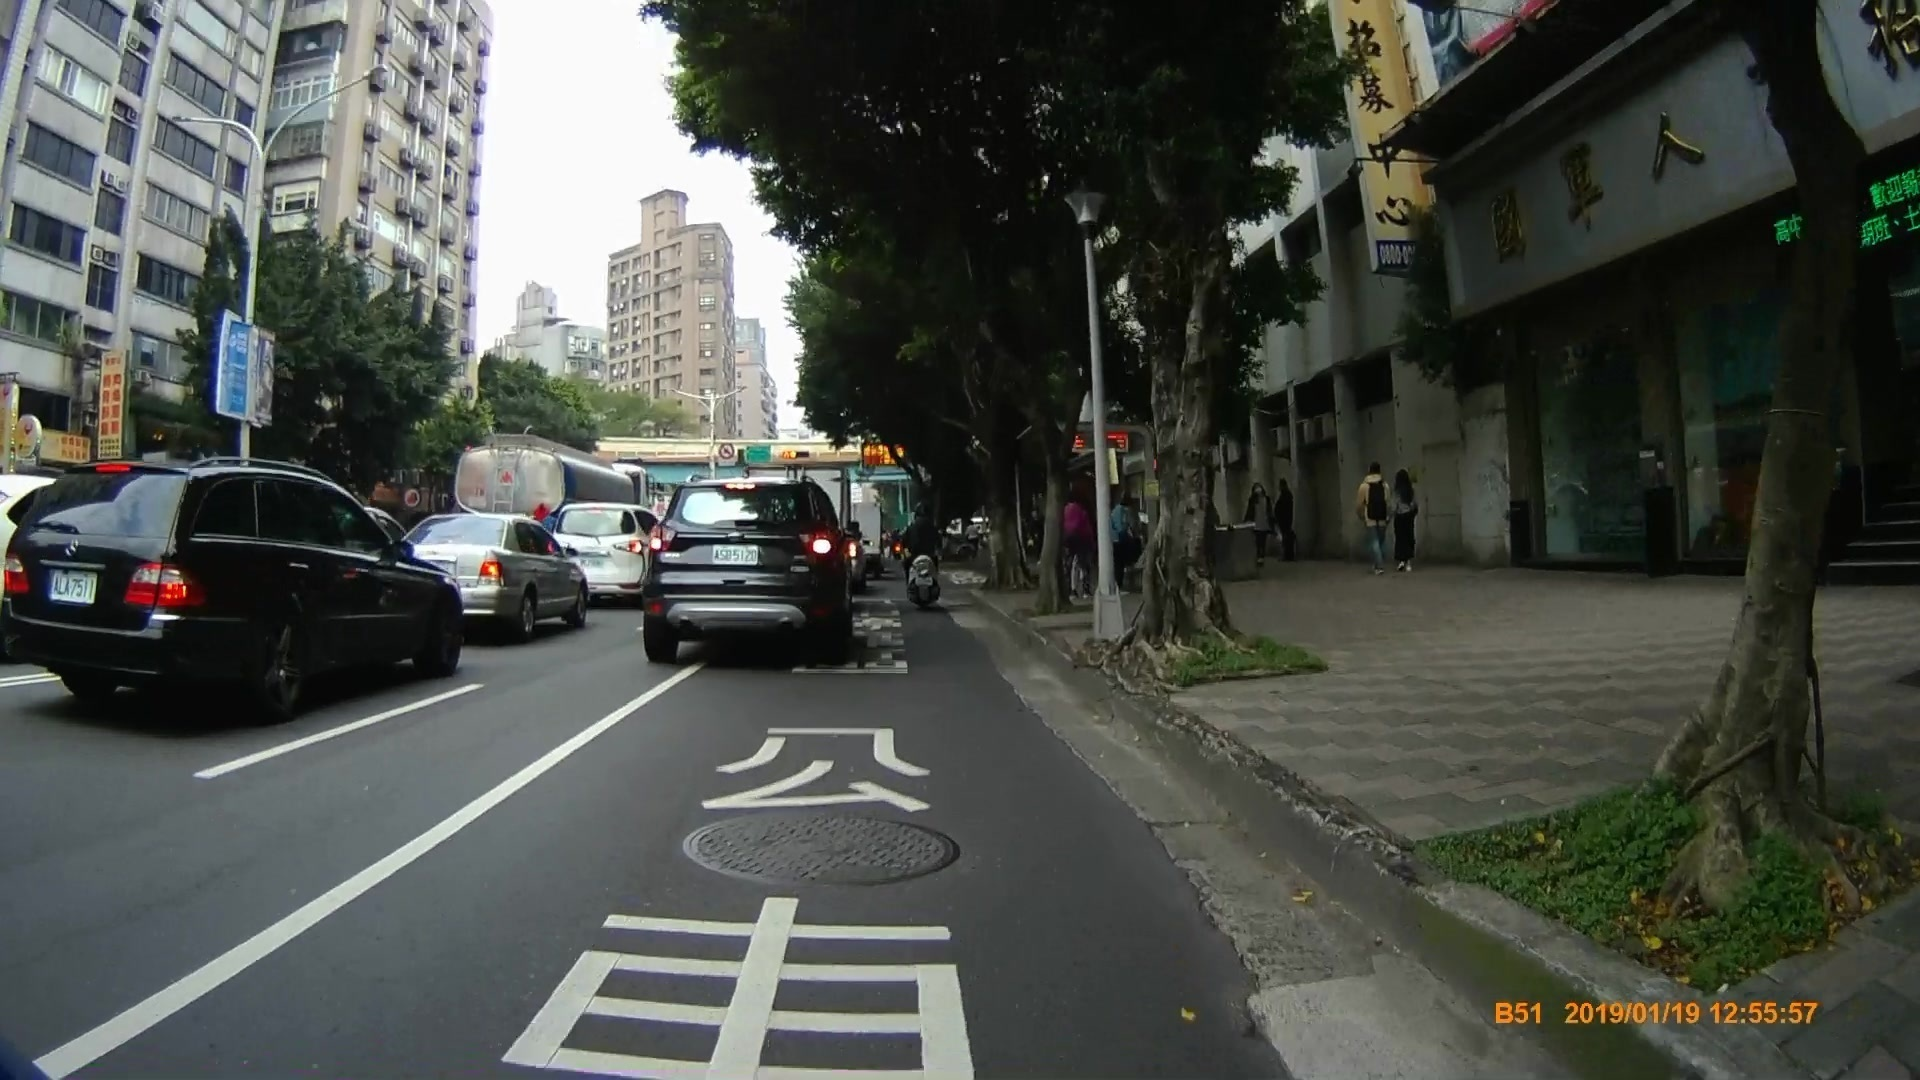License_plate: (44, 566, 104, 602), (709, 543, 761, 566)
